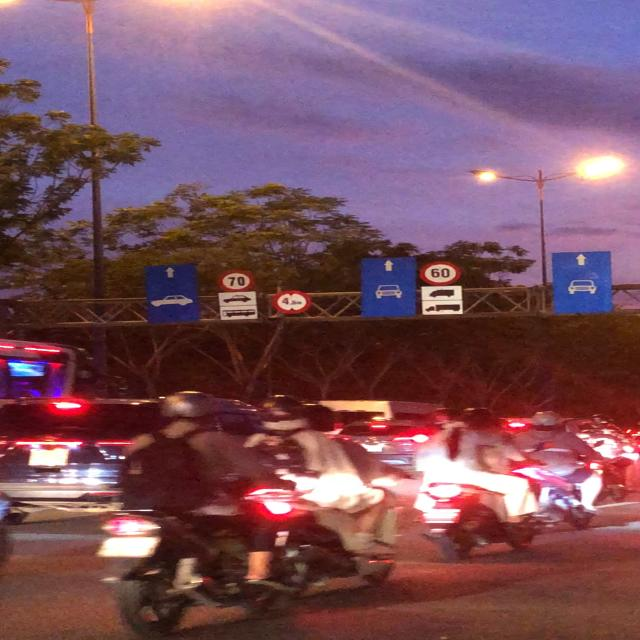Bien bao han che chieu cao: (269, 288, 317, 317)
Bien bao toc do toi da cho phep: (416, 259, 467, 287), (211, 270, 256, 293)
